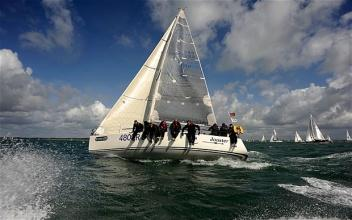fanchuan: (81, 8, 252, 154), (306, 112, 335, 145), (268, 127, 284, 144), (294, 128, 307, 146), (343, 125, 352, 145)
